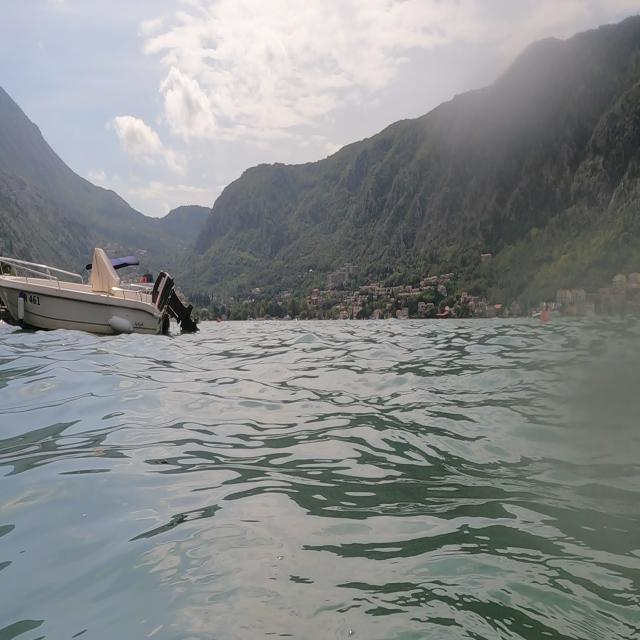boat: (1, 243, 198, 341)
